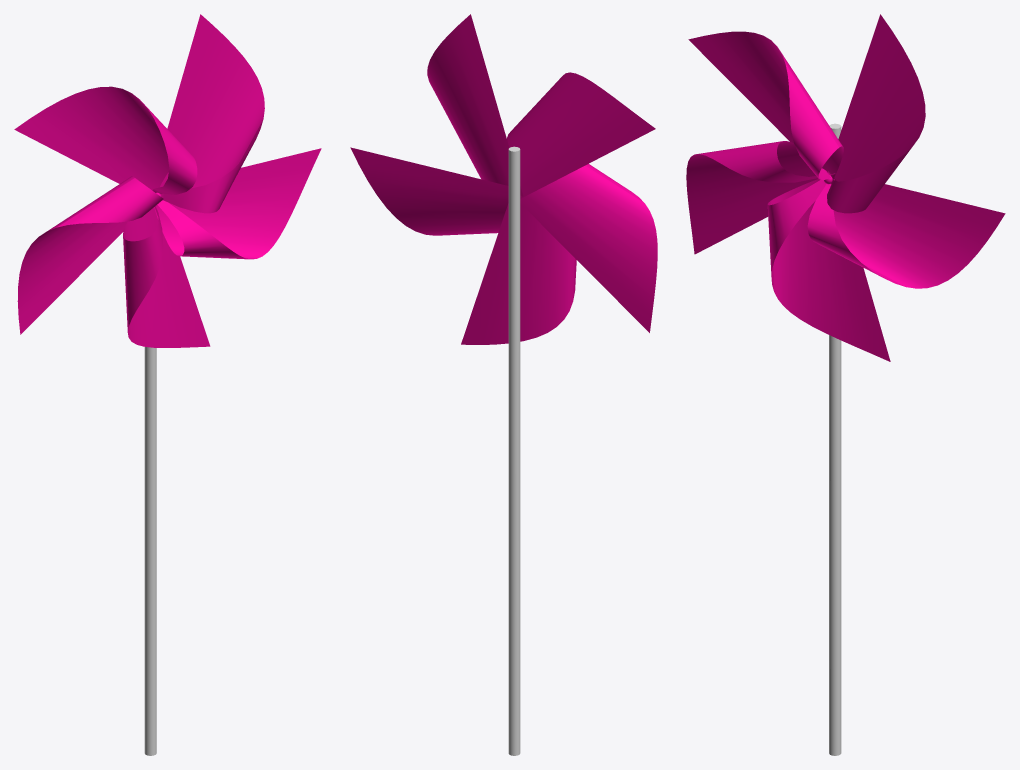
File: vetrodui_opt.glb
The picture shows the model from 3 angles, left to right: view 1: azimuth 30°, elevation 25°; view 2: azimuth 150°, elevation 25°; view 3: azimuth 330°, elevation 25°; orthographic projection. The views are drawn at different scales.
Visible parts, largest first — view 1: vetrodui_lopasti, vetrodui_stvol; view 2: vetrodui_lopasti, vetrodui_stvol; view 3: vetrodui_lopasti, vetrodui_stvol.
Part boxes in pixels (x1,y1,x2,y2): vetrodui_lopasti: (14, 14, 321, 347); vetrodui_stvol: (144, 347, 156, 755); vetrodui_lopasti: (350, 14, 657, 344); vetrodui_stvol: (508, 146, 520, 755); vetrodui_lopasti: (686, 14, 1005, 361); vetrodui_stvol: (829, 123, 841, 755).
Bounding box in the file's own units: 1.88 × 4.27 × 0.3474.
